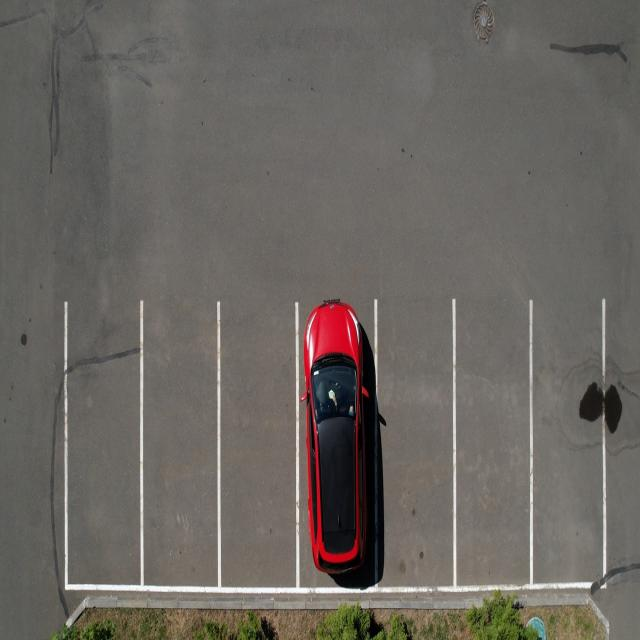space-empty: (451, 297, 534, 587), (139, 300, 221, 588), (219, 298, 300, 588), (63, 302, 144, 590), (528, 297, 607, 587), (378, 292, 456, 584)
space-occupied: (297, 298, 375, 580)
